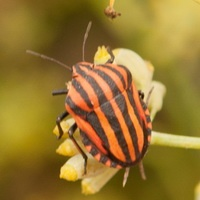insect: (27, 46, 164, 187)
